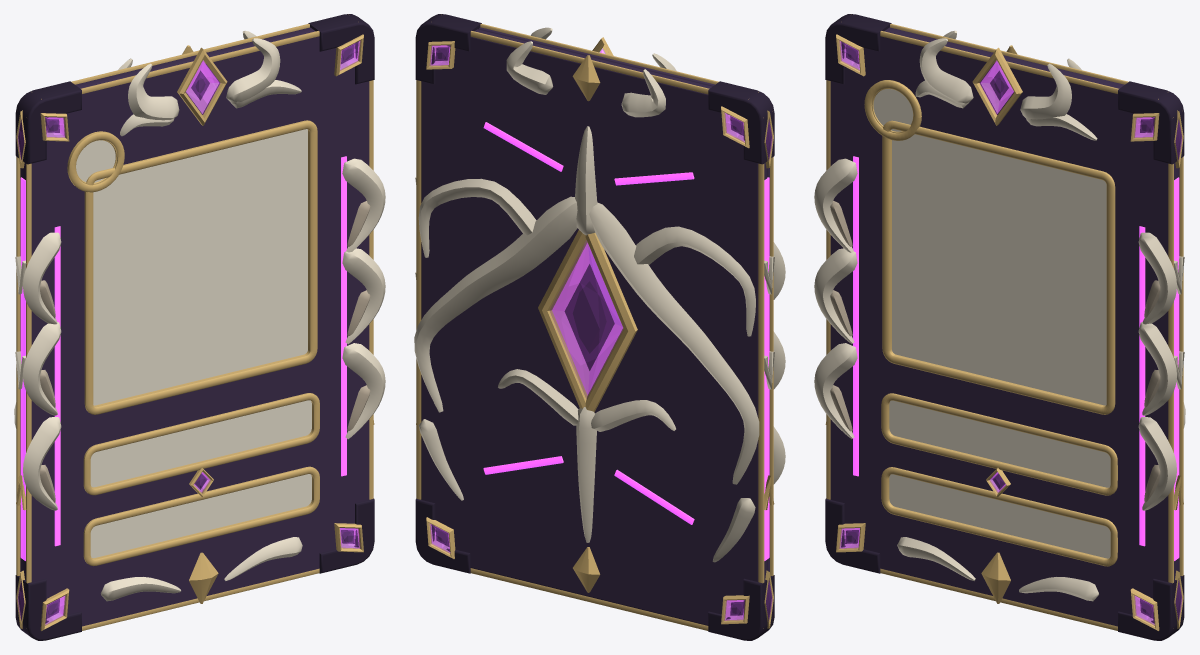
The model's file is card-faction-demon.glb.
3 views of the same model, side by side, from view 1: azimuth 30°, elevation 25°; view 2: azimuth 150°, elevation 25°; view 3: azimuth 330°, elevation 25° (orthographic).
Visible parts, largest first — view 1: demon-front-shell, demon-face-illu, demon-rim-illu-rim, demon-face-name, demon-face-desc, demon-front-rail, demon-rim-name-rim, demon-rim-desc-rim, obsidian-corner-0, demon-back-rail, obsidian-corner-1, obsidian-corner-2 (+22 smaller); view 2: demon-core-body, demon-back-rail, back-rib-main--1, back-rib-main-1, back-center-amethyst, back-center-amethyst-bezel, obsidian-corner-0, back-rib-up--1, back-center-amethyst-foil, back-rib-up-1, demon-front-rail, obsidian-corner-1 (+19 smaller); view 3: demon-front-shell, demon-face-illu, demon-rim-illu-rim, demon-face-name, demon-face-desc, demon-front-rail, demon-rim-name-rim, demon-rim-desc-rim, obsidian-corner-1, demon-back-rail, obsidian-corner-0, obsidian-corner-3 (+22 smaller).
Boxes of the visible parts, x1=… form: demon-front-shell: x1=31, y1=36, x2=369, y2=626; demon-face-illu: x1=93, y1=129, x2=307, y2=405; demon-rim-illu-rim: x1=84, y1=120, x2=317, y2=414; demon-face-name: x1=90, y1=400, x2=311, y2=487; demon-face-desc: x1=90, y1=474, x2=311, y2=558; demon-front-rail: x1=26, y1=31, x2=373, y2=630; demon-rim-name-rim: x1=83, y1=393, x2=319, y2=495; demon-rim-desc-rim: x1=83, y1=466, x2=319, y2=566; obsidian-corner-0: x1=15, y1=81, x2=81, y2=164; demon-back-rail: x1=16, y1=14, x2=348, y2=575; obsidian-corner-1: x1=308, y1=14, x2=374, y2=84; obsidian-corner-2: x1=15, y1=575, x2=81, y2=640; demon-core-body: x1=421, y1=29, x2=767, y2=625; demon-back-rail: x1=416, y1=31, x2=764, y2=630; back-rib-main--1: x1=589, y1=202, x2=759, y2=484; back-rib-main-1: x1=414, y1=196, x2=577, y2=412; back-center-amethyst: x1=550, y1=240, x2=623, y2=398; back-center-amethyst-bezel: x1=538, y1=230, x2=637, y2=412; obsidian-corner-0: x1=708, y1=81, x2=774, y2=164; back-rib-up--1: x1=634, y1=226, x2=755, y2=336; back-center-amethyst-foil: x1=552, y1=243, x2=622, y2=395; back-rib-up-1: x1=418, y1=178, x2=536, y2=257; demon-front-rail: x1=441, y1=14, x2=773, y2=575; obsidian-corner-1: x1=415, y1=14, x2=481, y2=84; demon-front-shell: x1=830, y1=36, x2=1168, y2=626; demon-face-illu: x1=892, y1=134, x2=1106, y2=405; demon-rim-illu-rim: x1=882, y1=120, x2=1115, y2=414; demon-face-name: x1=889, y1=400, x2=1110, y2=487; demon-face-desc: x1=889, y1=474, x2=1110, y2=558; demon-front-rail: x1=826, y1=31, x2=1173, y2=630; demon-rim-name-rim: x1=881, y1=393, x2=1117, y2=495; demon-rim-desc-rim: x1=881, y1=467, x2=1117, y2=566; obsidian-corner-1: x1=1118, y1=81, x2=1184, y2=164; demon-back-rail: x1=851, y1=14, x2=1183, y2=575; obsidian-corner-0: x1=825, y1=14, x2=891, y2=84; obsidian-corner-3: x1=1118, y1=575, x2=1184, y2=640.
Bounding box in the file's own units: 0.9949 × 1.46 × 0.1347.
